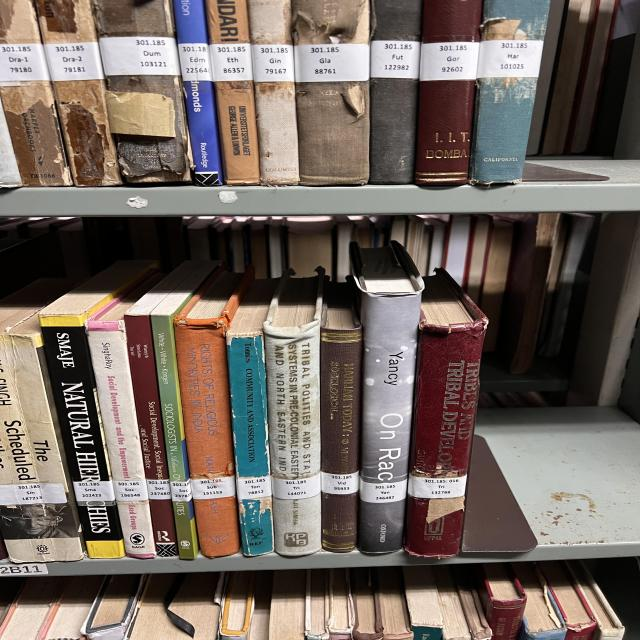Book: (40, 260, 158, 559), (0, 279, 85, 562), (405, 270, 487, 558), (173, 271, 253, 558), (350, 241, 423, 554), (123, 262, 193, 558), (150, 261, 218, 559), (93, 0, 190, 182), (87, 300, 155, 559), (263, 269, 323, 556), (35, 0, 122, 186), (468, 0, 550, 185), (293, 0, 370, 186), (227, 279, 278, 556), (415, 0, 482, 185), (320, 282, 362, 552), (205, 0, 260, 185), (368, 0, 422, 184), (247, 0, 300, 185), (173, 0, 223, 186)
Label: (98, 36, 180, 76), (295, 44, 370, 82), (477, 40, 543, 78), (420, 42, 480, 81), (45, 42, 103, 81), (370, 40, 420, 79), (0, 44, 50, 82), (208, 44, 253, 81), (252, 45, 295, 82), (408, 475, 467, 499), (0, 484, 67, 505), (272, 474, 322, 500), (178, 44, 212, 81), (360, 479, 407, 502), (190, 476, 235, 500), (237, 475, 272, 500), (322, 471, 358, 495), (73, 481, 115, 501), (113, 480, 148, 501), (147, 479, 172, 500), (170, 480, 192, 501)
